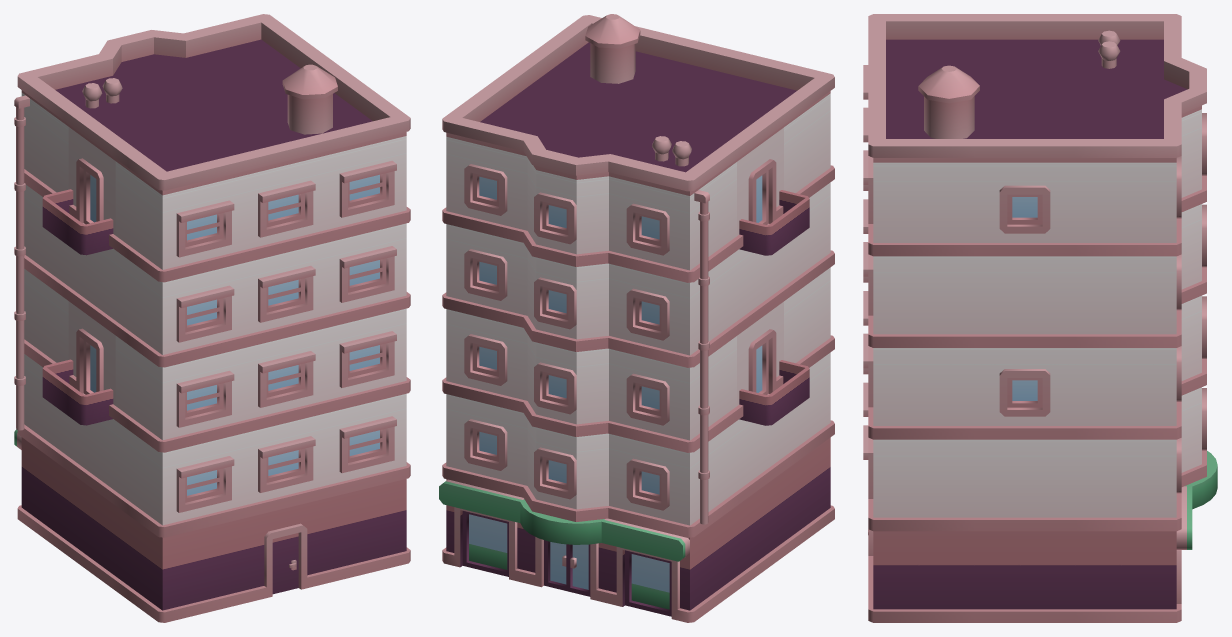
Rendered from apartment_5story.obj.
3 renders of one model, left to right at view 1: azimuth 30°, elevation 25°; view 2: azimuth 150°, elevation 25°; view 3: azimuth 270°, elevation 25°, orthographic. The views are drawn at different scales.
Parts seen in each view (by area): view 1: building-l; view 2: building-l; view 3: building-l.
Boxes of the visible parts, x1,y1,x2,y2 form: building-l: (14, 14, 410, 622); building-l: (439, 14, 834, 622); building-l: (863, 14, 1217, 622).
Bounding box in the file's own units: 27.4 × 45.4 × 28.04.
1 material, 1 textured.
